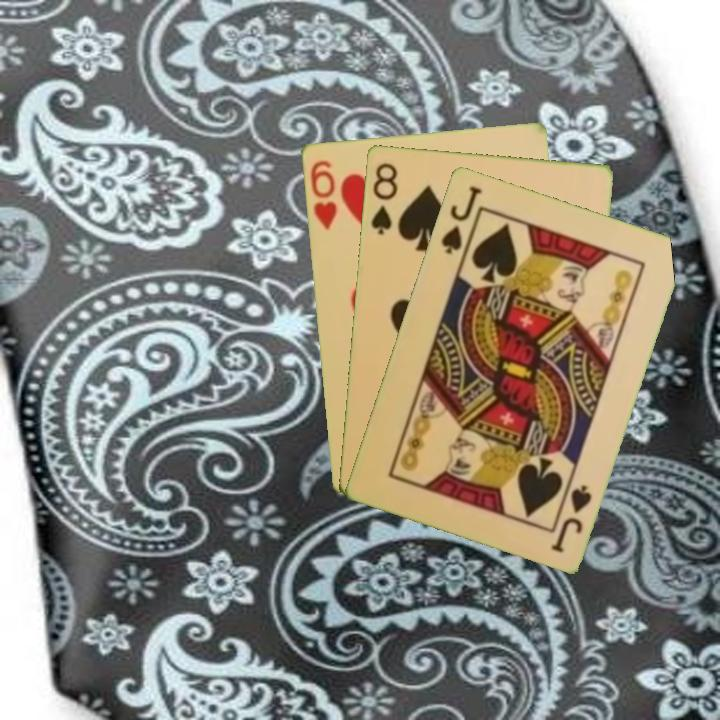6h: (306, 156, 339, 233)
8s: (367, 159, 400, 237)
Js: (437, 182, 485, 257), (547, 480, 594, 555)
